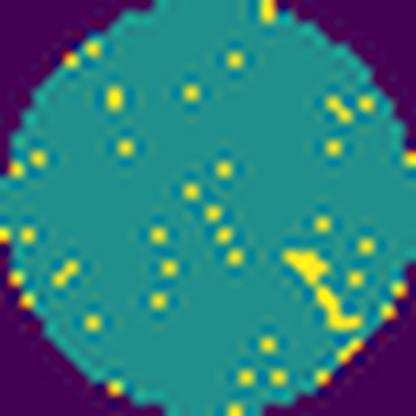Scratch: (280, 249, 363, 335)
